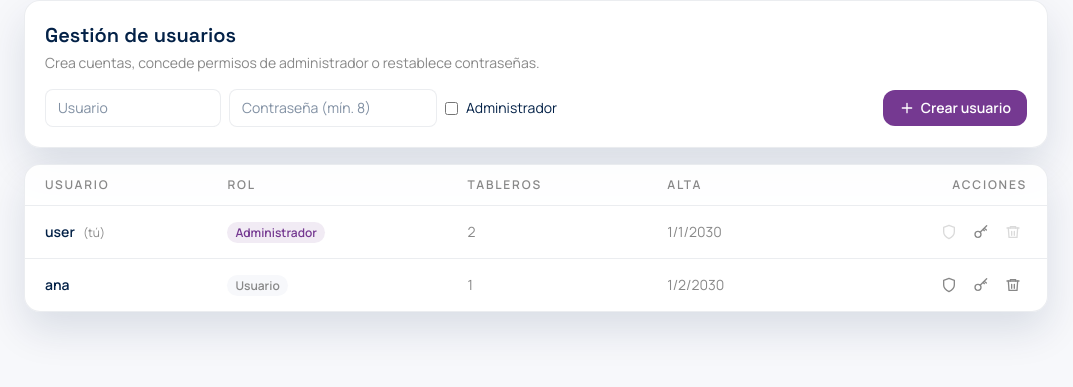
Test case: UsersAdmin › shows server errors
Check: the row with test id "user-ana" is shown, box [25, 258, 1047, 311]
Type "ana" into the field named "Nombre del nuevo usuario" at coordinates (133, 108), box [45, 89, 221, 127]
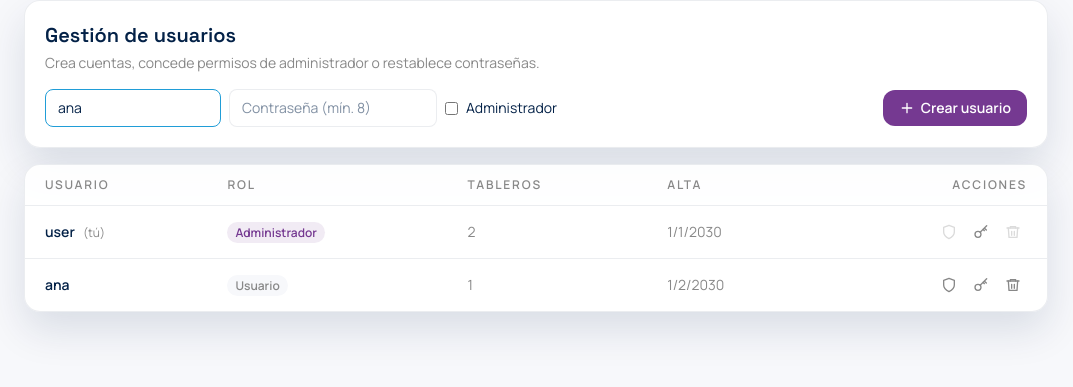
Type "secreto123" into the password field named "Contraseña del nuevo usuario" at coordinates (333, 108), box [229, 89, 437, 127]
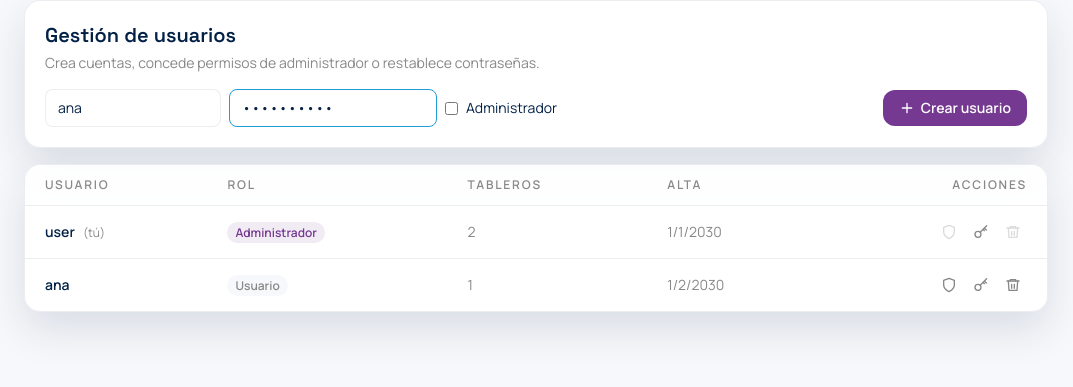
Click the button "Crear usuario" at coordinates (955, 108), box [883, 90, 1027, 126]
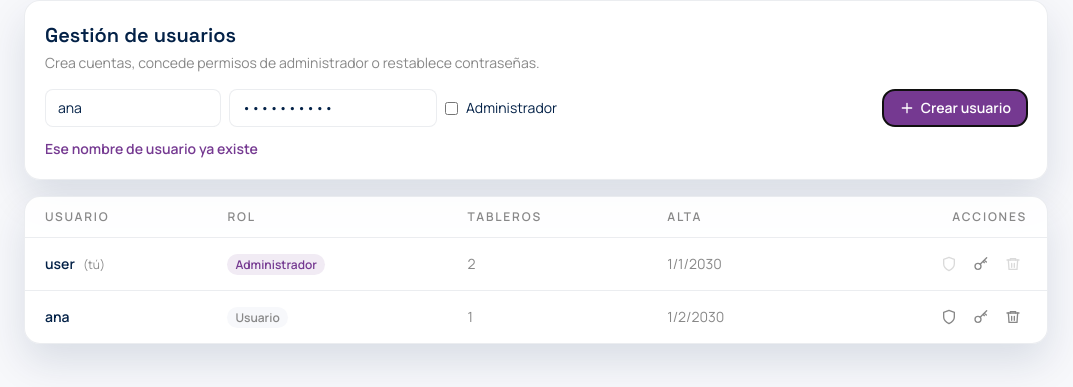
Check: the message reads "Ese nombre de usuario ya existe", box [45, 139, 258, 158]
